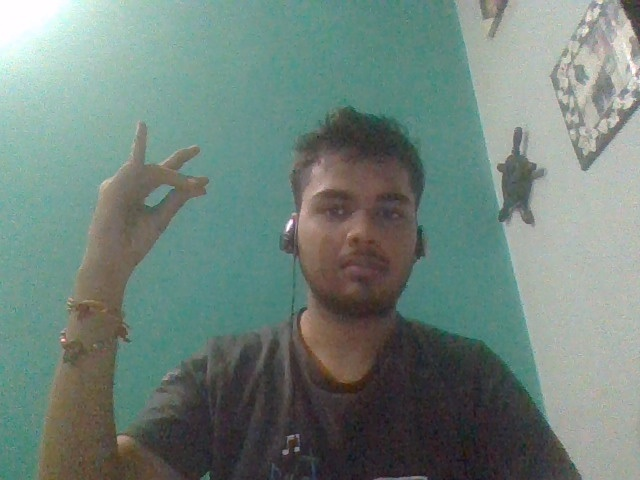no: (73, 119, 210, 280)
